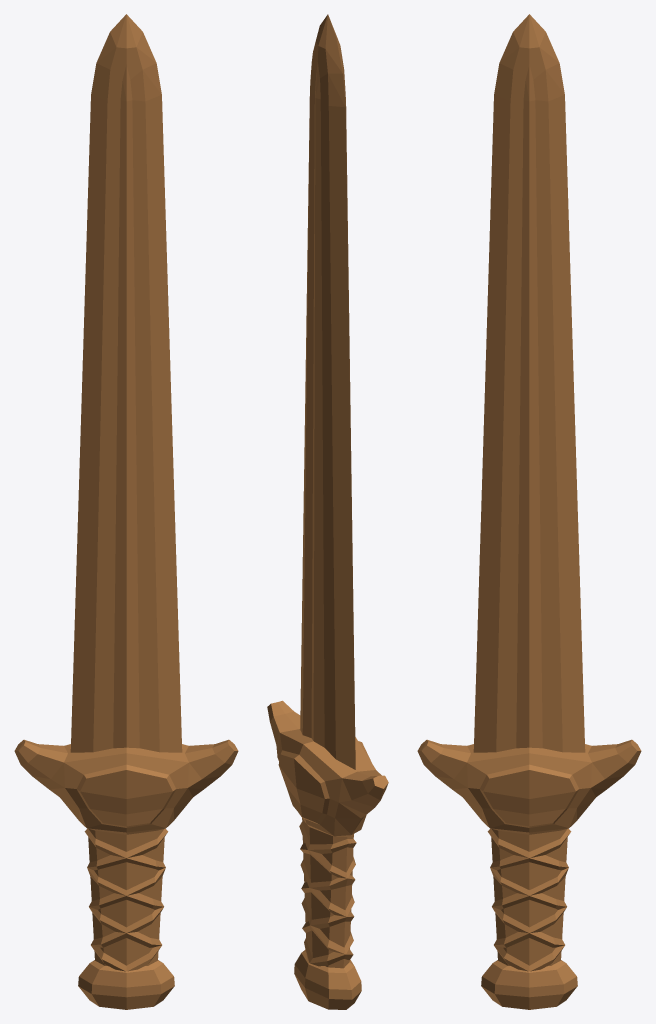
Rendered from Copper_Sword.fbx.
3 renders of one model, left to right at view 1: azimuth 90°, elevation 25°; view 2: azimuth 210°, elevation 25°; view 3: azimuth 270°, elevation 25°, orthographic.
Parts seen in each view (by area): view 1: Copper_Sword; view 2: Copper_Sword; view 3: Copper_Sword.
Part boxes in pixels (x1=…): Copper_Sword: x1=14, y1=14, x2=238, y2=1009; Copper_Sword: x1=267, y1=14, x2=388, y2=1009; Copper_Sword: x1=417, y1=14, x2=641, y2=1009.
Bounding box in the file's own units: 0.2132 × 2.95 × 0.6057.
